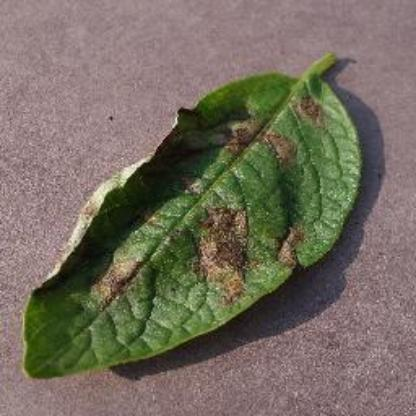Late-Blight: (22, 43, 364, 384)
